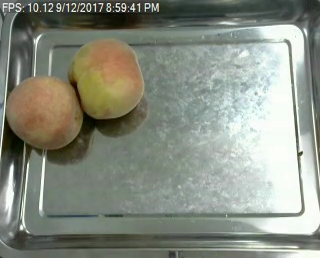Peach: (68, 37, 145, 118), (5, 74, 83, 149)
